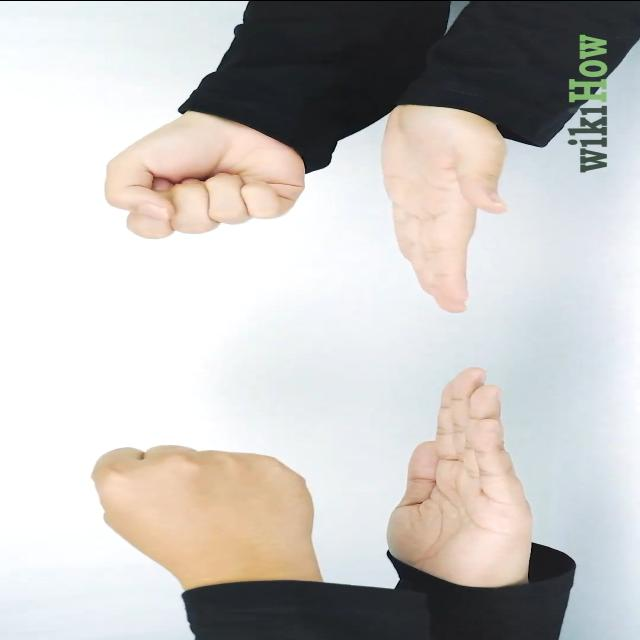Rock: (90, 444, 316, 564), (99, 118, 304, 240)
